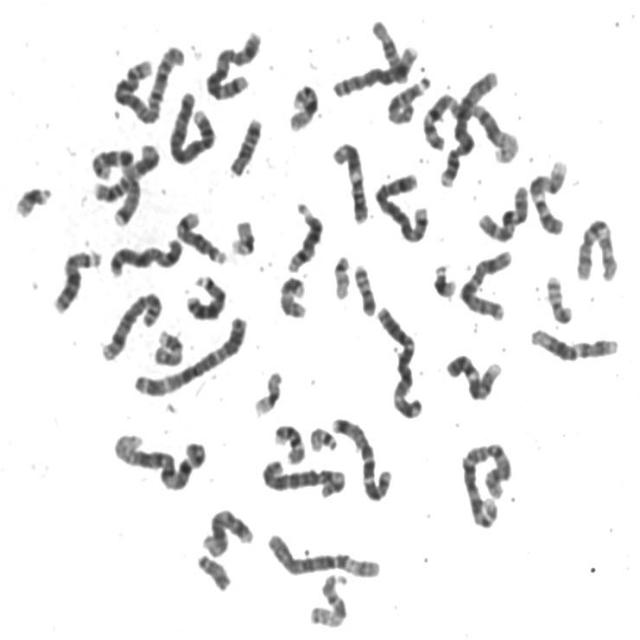A1: (419, 89, 521, 164), (109, 426, 210, 495)
A2: (110, 37, 189, 127), (458, 436, 516, 531)
A3: (130, 307, 252, 399), (373, 301, 426, 421)
B4: (435, 65, 500, 190), (165, 86, 219, 166)
B5: (201, 24, 265, 102), (370, 168, 432, 244)
C10: (474, 178, 532, 244), (572, 212, 622, 284)
C11: (89, 137, 162, 205), (328, 136, 372, 225)
C12: (526, 323, 622, 362), (200, 503, 256, 559)
C6: (262, 528, 383, 582), (257, 452, 349, 500)
C7: (328, 411, 396, 503), (88, 143, 143, 228)
C8: (328, 38, 422, 98), (98, 286, 166, 363)
C9: (526, 153, 572, 236), (442, 348, 506, 403)
D13: (49, 243, 105, 316), (182, 269, 229, 321)
D14: (172, 205, 230, 267), (284, 197, 326, 275)
D15: (383, 70, 432, 126), (308, 571, 356, 627)
E16: (285, 77, 322, 133), (270, 418, 308, 465)
E17: (276, 270, 310, 320), (151, 325, 186, 368)
E18: (226, 110, 265, 178), (369, 18, 408, 83)
F19: (250, 365, 286, 418), (228, 213, 258, 258)
F20: (542, 268, 576, 326), (350, 258, 379, 318)
G21: (10, 179, 56, 220), (430, 258, 460, 301)
G22: (330, 250, 353, 301), (306, 422, 340, 454)
X: (456, 244, 516, 322), (105, 232, 186, 280)
Y: (194, 548, 234, 593)
